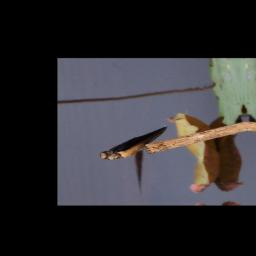Swallow: (95, 126, 175, 161)
